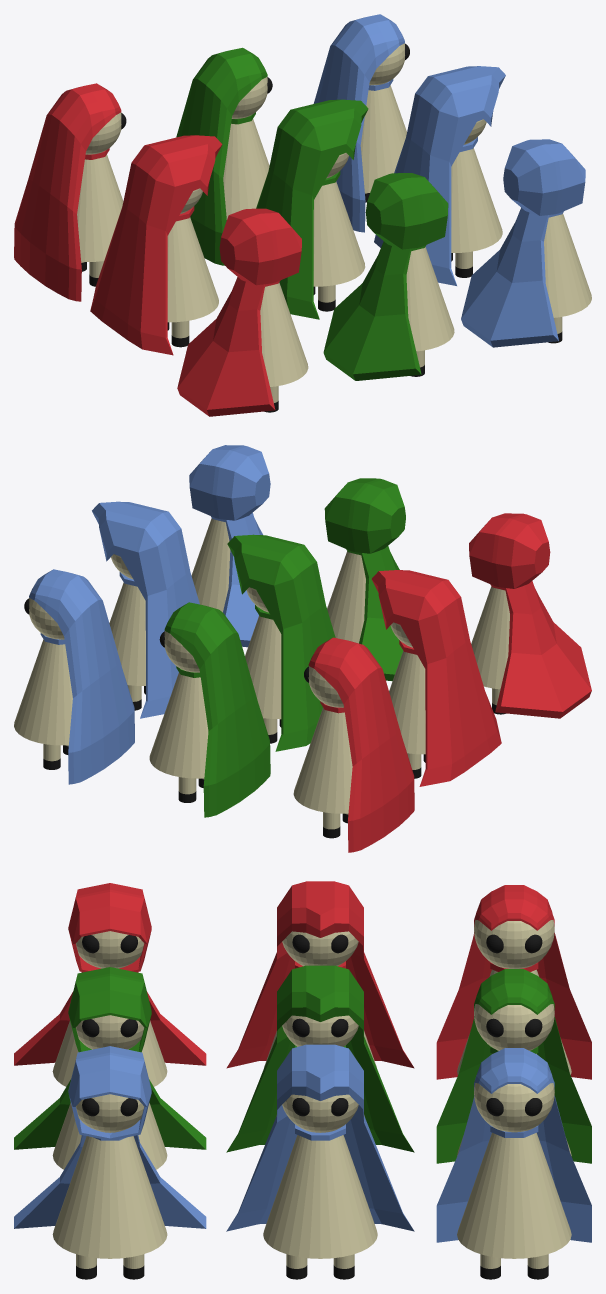
Rendered from Hunter Cape MKII (Head).fbx.
3 renders of one model, top to bottom at view 1: azimuth 30°, elevation 25°; view 2: azimuth 150°, elevation 25°; view 3: azimuth 270°, elevation 25°, orthographic. The views are drawn at different scales.
Parts seen in each view (by area): view 1: Unequipped Human MKII.001, Cube, Cube.005, Cube.001, Cube.002, Unequipped Human MKII.004, Unequipped Human MKII.007, Cube.003, Cube.004, Unequipped Human MKII, Unequipped Human MKII.005, Unequipped Human MKII.006 (+3 smaller); view 2: Unequipped Human MKII.004, Unequipped Human MKII.007, Unequipped Human MKII.001, Cube, Cube.001, Cube.003, Cube.004, Cube.002, Cube.005, Unequipped Human MKII.005, Unequipped Human MKII, Unequipped Human MKII.006 (+3 smaller); view 3: Unequipped Human MKII.007, Unequipped Human MKII.006, Unequipped Human MKII.008, Unequipped Human MKII.001, Unequipped Human MKII.004, Cube.004, Cube, Cube.003, Cube.005, Cube.001, Cube.002, Unequipped Human MKII.002 (+3 smaller).
Boxes of the visible parts, x1,y1,x2,y2 form: Unequipped Human MKII.001: [14, 83, 126, 301]; Cube: [90, 135, 222, 355]; Cube.005: [461, 139, 585, 347]; Cube.001: [177, 208, 301, 416]; Cube.002: [323, 173, 448, 380]; Unequipped Human MKII.004: [176, 47, 272, 265]; Unequipped Human MKII.007: [313, 14, 409, 232]; Cube.003: [256, 99, 368, 319]; Cube.004: [374, 66, 505, 285]; Unequipped Human MKII: [167, 188, 218, 347]; Unequipped Human MKII.005: [313, 153, 365, 311]; Unequipped Human MKII.006: [451, 119, 502, 277]; Unequipped Human MKII.004: [149, 602, 270, 817]; Unequipped Human MKII.007: [14, 569, 134, 784]; Unequipped Human MKII.001: [293, 637, 414, 852]; Cube: [371, 570, 501, 786]; Cube.001: [469, 513, 591, 718]; Cube.003: [227, 534, 335, 751]; Cube.004: [92, 501, 199, 718]; Cube.002: [324, 478, 405, 681]; Cube.005: [189, 445, 270, 647]; Unequipped Human MKII.005: [245, 587, 281, 743]; Unequipped Human MKII: [389, 622, 425, 778]; Unequipped Human MKII.006: [109, 554, 145, 710]; Unequipped Human MKII.007: [436, 1048, 591, 1279]; Unequipped Human MKII.006: [263, 1094, 377, 1279]; Unequipped Human MKII.008: [52, 1094, 167, 1279]; Unequipped Human MKII.001: [436, 885, 591, 1079]; Unequipped Human MKII.004: [436, 969, 591, 1163]; Cube.004: [226, 1044, 414, 1231]; Cube: [226, 881, 414, 1068]; Cube.003: [226, 965, 414, 1152]; Cube.005: [14, 1046, 206, 1228]; Cube.001: [14, 883, 206, 1065]; Cube.002: [14, 967, 206, 1149]; Unequipped Human MKII.002: [52, 931, 167, 1086].
Bounding box in the file's own units: 1930 × 863 × 2033.
